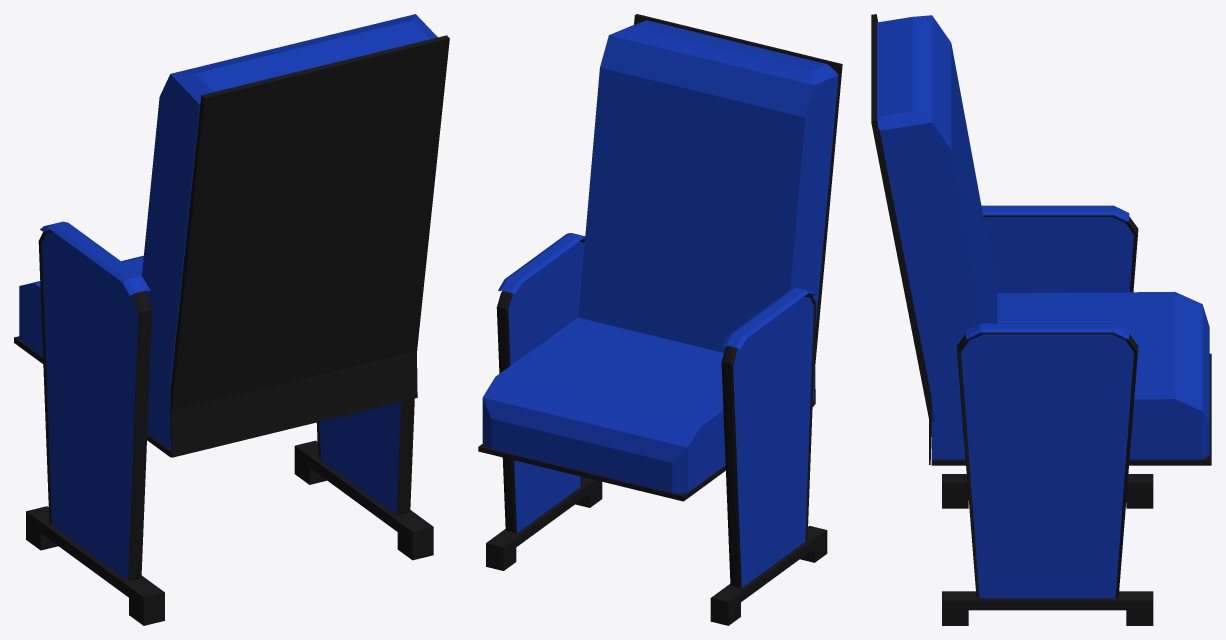
File: cadeira boa.FBX
3 renders of one model, left to right at view 1: azimuth 30°, elevation 25°; view 2: azimuth 150°, elevation 25°; view 3: azimuth 270°, elevation 25°, orthographic. The views are drawn at different scales.
Visible parts, largest first — view 1: Box008, Box005, Box009, Box010, Box003, Box007, Object002; view 2: Box009, Box007, Box005, Box003, Box008, Box006, Object002, Object001; view 3: Box003, Box009, Box007, Box005, Box008, Object001, Object002, Box006.
Part boxes in pixels (x1,y1,x2,y2): Box008: [170, 35, 449, 410]; Box005: [26, 230, 164, 625]; Box009: [142, 14, 437, 384]; Box010: [170, 351, 417, 457]; Box003: [294, 398, 433, 560]; Box007: [19, 255, 170, 450]; Object002: [40, 221, 150, 295]; Box009: [578, 20, 838, 352]; Box007: [482, 317, 814, 493]; Box005: [710, 294, 827, 625]; Box003: [486, 239, 602, 570]; Box008: [634, 14, 842, 365]; Box006: [478, 401, 814, 501]; Object002: [723, 288, 815, 349]; Object001: [498, 233, 585, 294]; Box003: [942, 332, 1153, 625]; Box009: [877, 15, 997, 421]; Box007: [931, 291, 1209, 459]; Box005: [942, 215, 1153, 508]; Box008: [871, 14, 934, 422]; Object001: [965, 323, 1129, 339]; Object002: [981, 205, 1129, 222]; Box006: [931, 353, 1211, 465].
Size of the model in its own units: 2.41 by 4.41 by 2.73.
